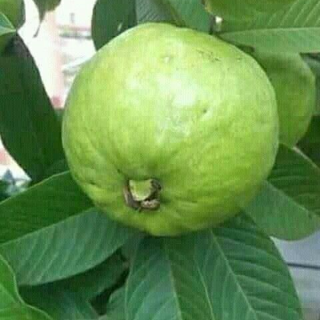oi: (63, 22, 275, 237)
